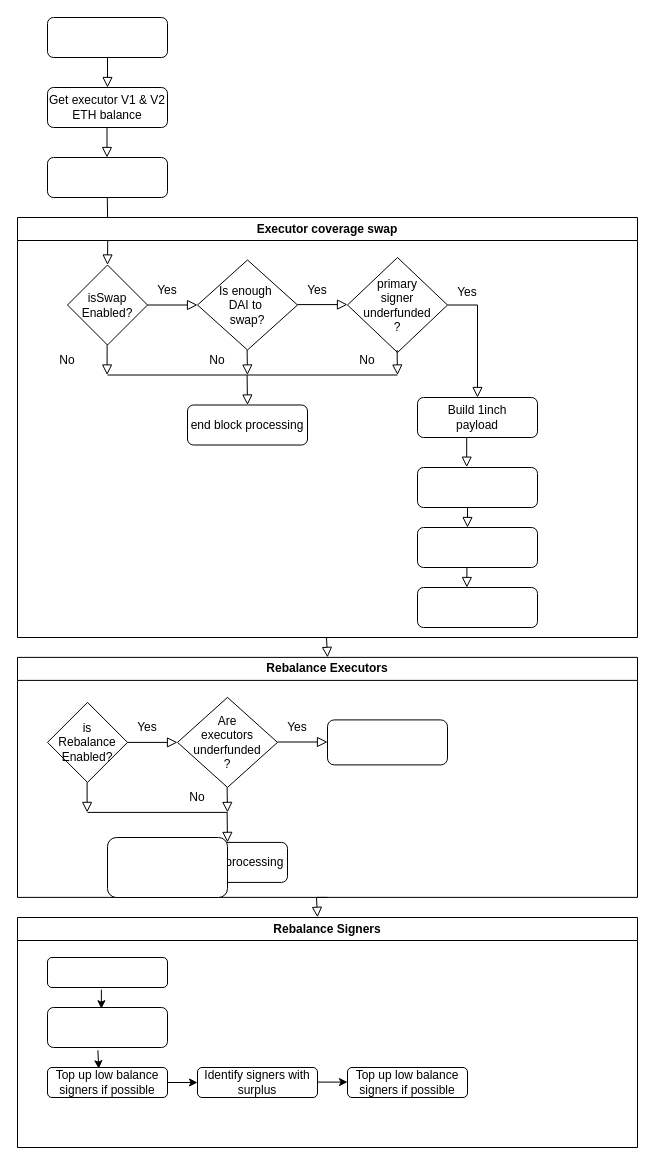
Image size: 655x1165. Some labels were removed from this diagram. The shapes that lost their labels are listed below. From the top down, each one's centre as x and y in pixels, then its label:
At (107,37): "Start".
At (107,177): "Get Primary signer ETH balance".
At (477,487): "Send transaction".
At (477,547): "Mine transaction".
At (477,607): "send eth to primary signer".
At (387,742): "Send ETH from primary signer to executors".
At (107,972): "Find low balance signers".
At (107,1027): "Calculate primary signer surplus".
